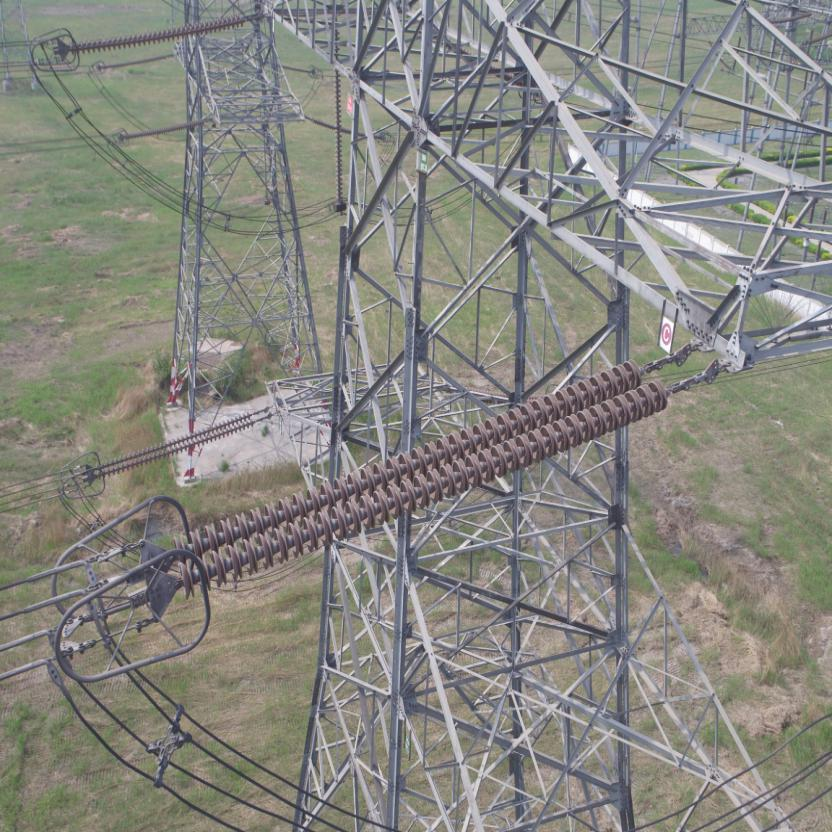insulator: (161, 354, 690, 607), (92, 410, 259, 480), (71, 13, 245, 52)
